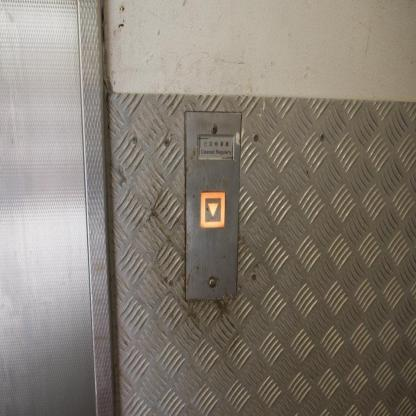down: (199, 188, 224, 227)
